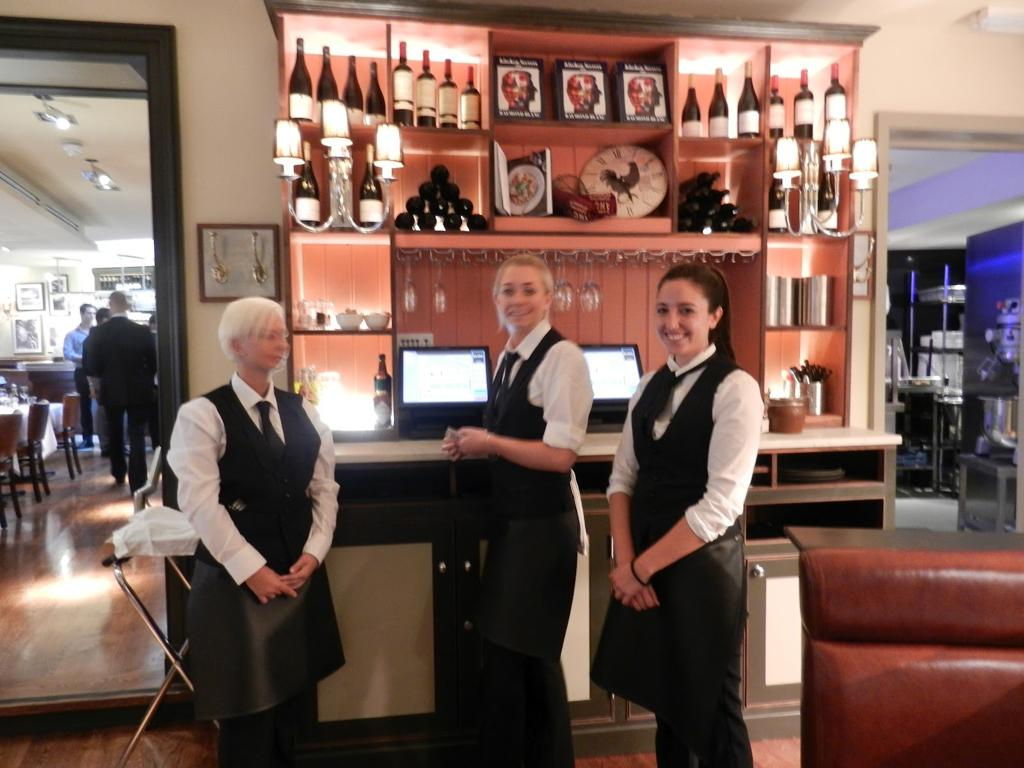face: (653, 292, 709, 354), (243, 323, 290, 371), (498, 280, 540, 332), (583, 81, 602, 103), (645, 83, 662, 105), (521, 79, 536, 101), (83, 309, 95, 323)
